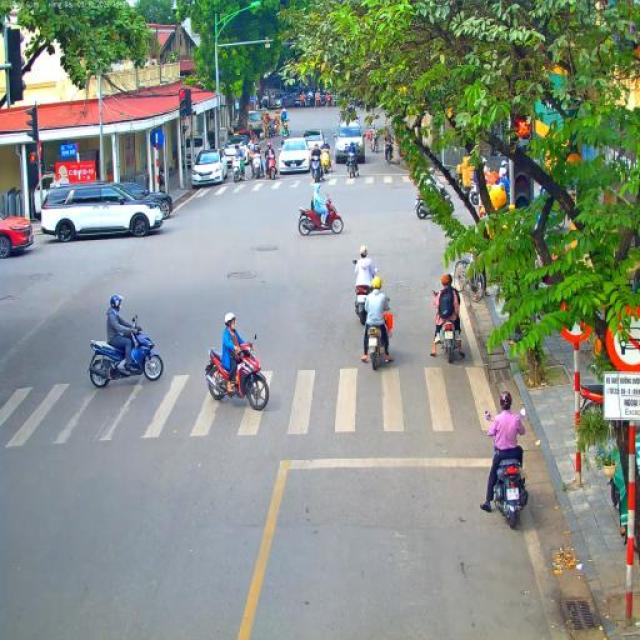car: (40, 180, 165, 242), (115, 182, 173, 218), (0, 216, 34, 259), (192, 148, 228, 188), (334, 120, 365, 164), (278, 136, 312, 175), (220, 134, 250, 174), (300, 128, 325, 154), (276, 92, 300, 108), (232, 129, 252, 146), (272, 91, 282, 108)
motorcycle: (86, 314, 164, 388), (484, 408, 530, 528), (205, 332, 270, 412), (432, 291, 462, 364), (297, 194, 343, 236), (352, 258, 379, 326), (363, 309, 392, 370), (415, 189, 451, 220), (579, 382, 605, 413), (229, 154, 247, 183), (465, 180, 480, 210), (250, 151, 264, 179), (320, 147, 334, 174), (308, 156, 322, 183), (346, 150, 358, 178), (265, 156, 279, 180), (368, 128, 379, 152), (384, 141, 394, 164), (268, 118, 276, 138), (346, 103, 355, 119), (323, 95, 332, 107), (282, 119, 290, 131), (299, 95, 306, 107), (306, 94, 312, 108), (281, 134, 289, 144), (314, 95, 320, 107)
truck: (244, 110, 264, 138)
